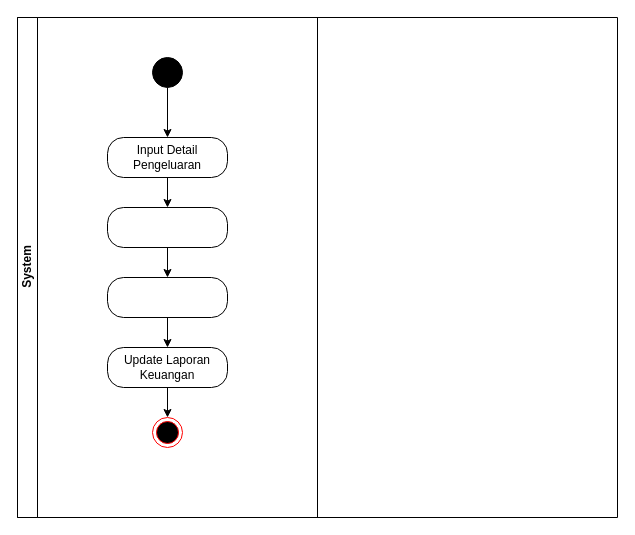
Some shapes in this 635 by 535 pixel diagram are drawn without their labels. Here are the shapes that lost their labels. From the top down, the centre of each, then its label:
At [167,227]: "Upload Bukti Kwitansi".
At [167,297]: "Simpan Data Expense".
